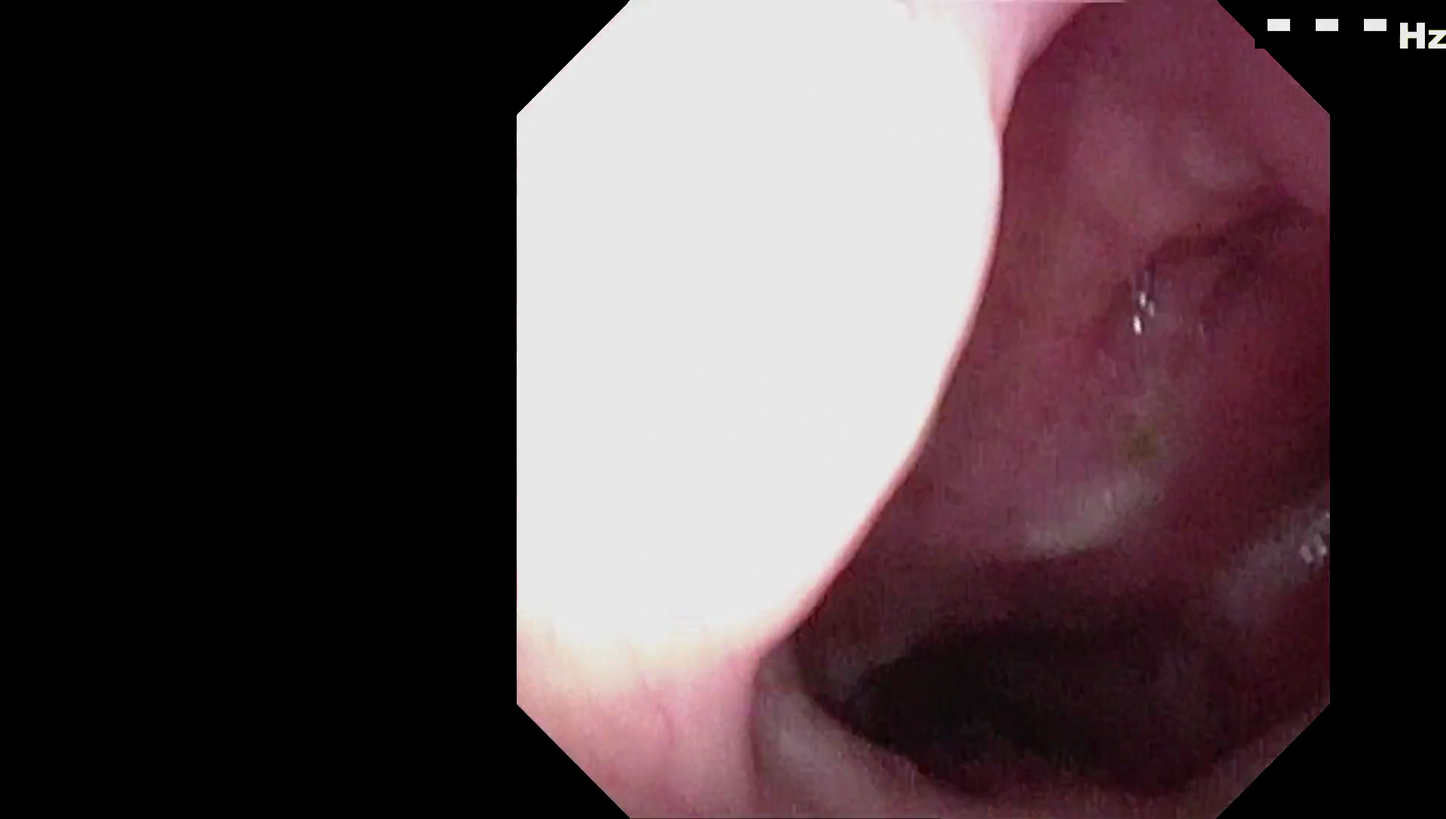close_wall: (559, 81, 1019, 669)
next: (812, 556, 1197, 799)
